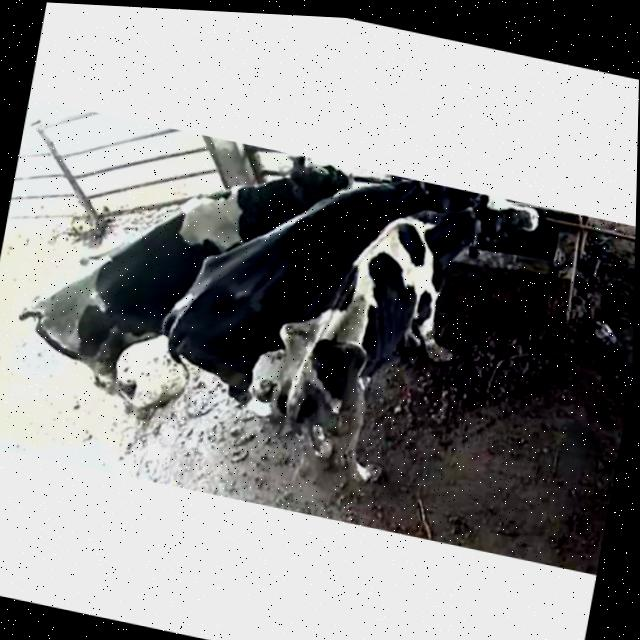drink: (326, 162, 447, 257)
